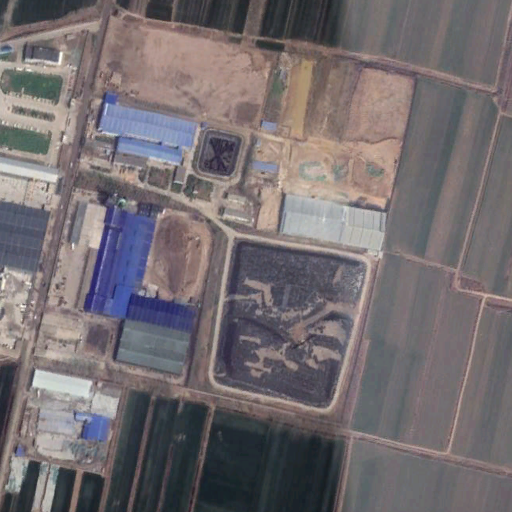lf: (209, 236, 366, 412)
